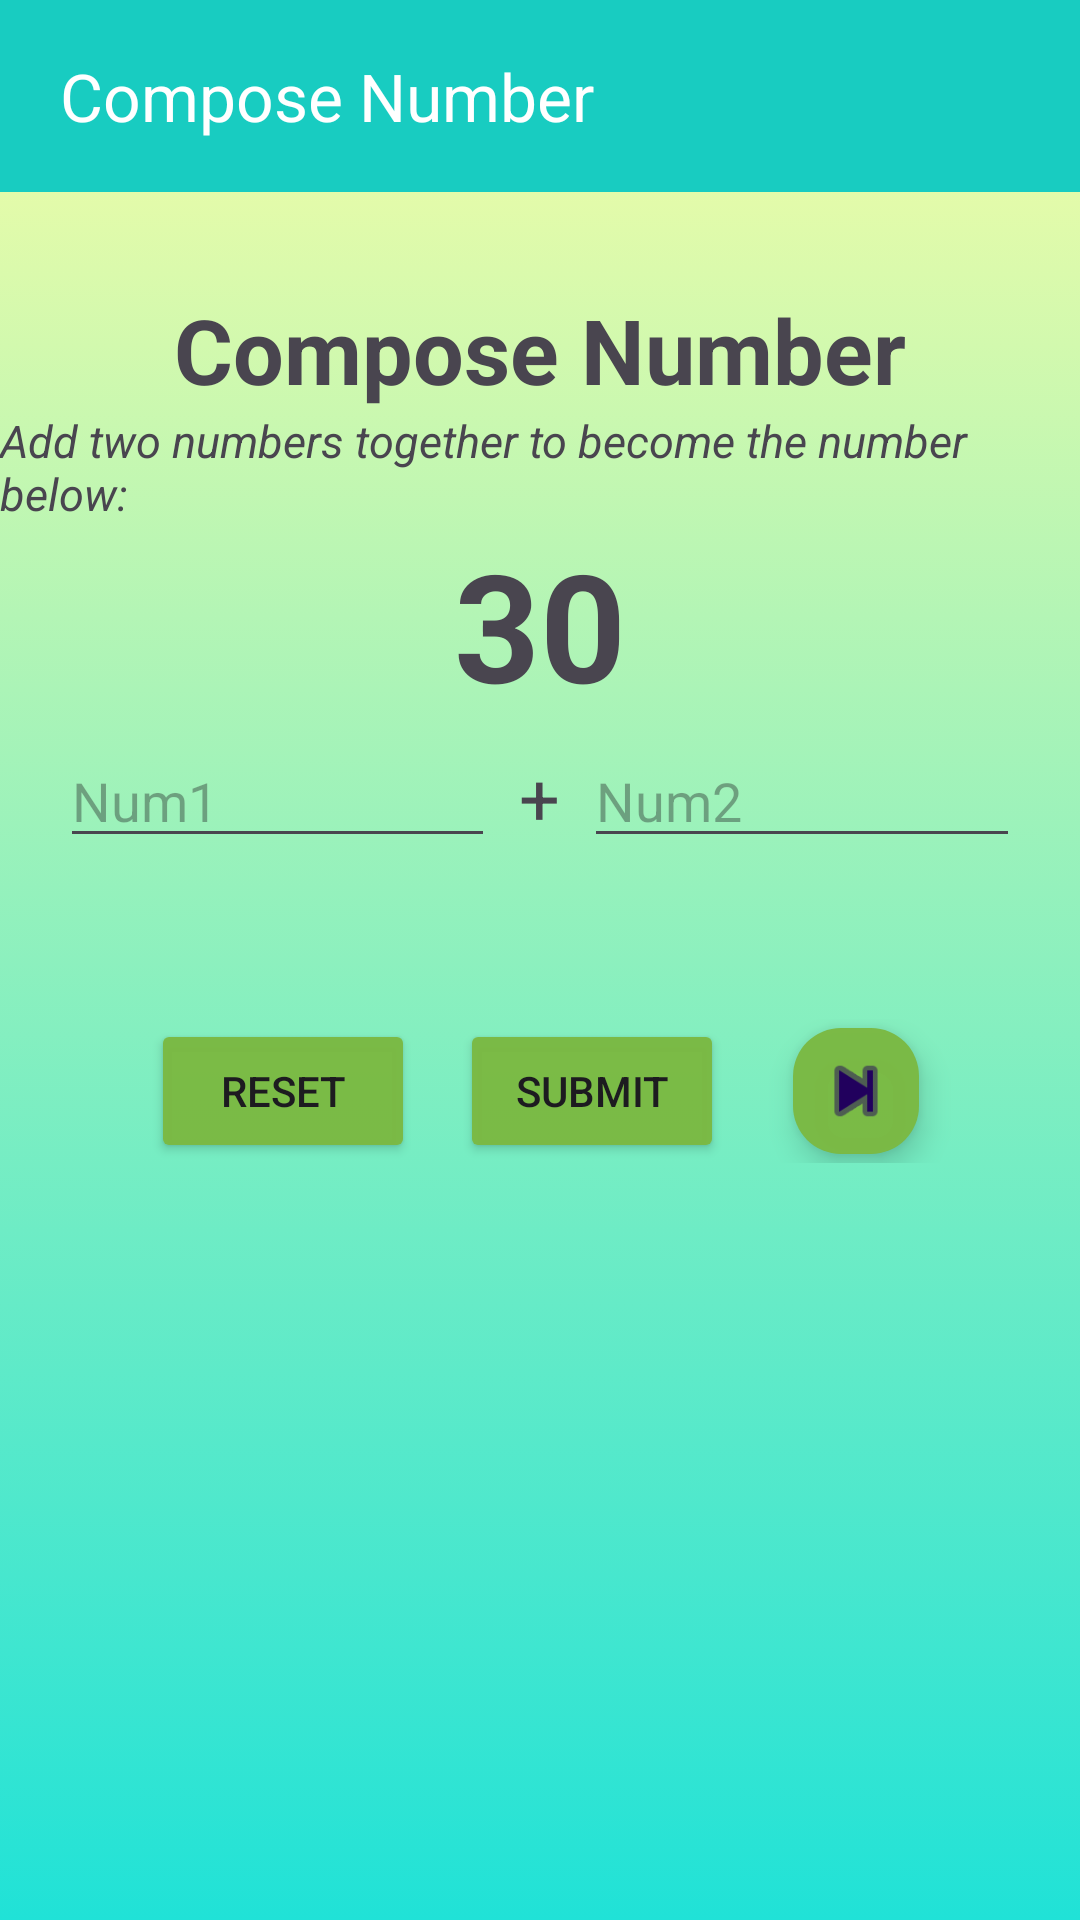

Icons on this 1080px×1920px Android screen, each with the point to tap as point (x, y):
next: point (857, 1094)
